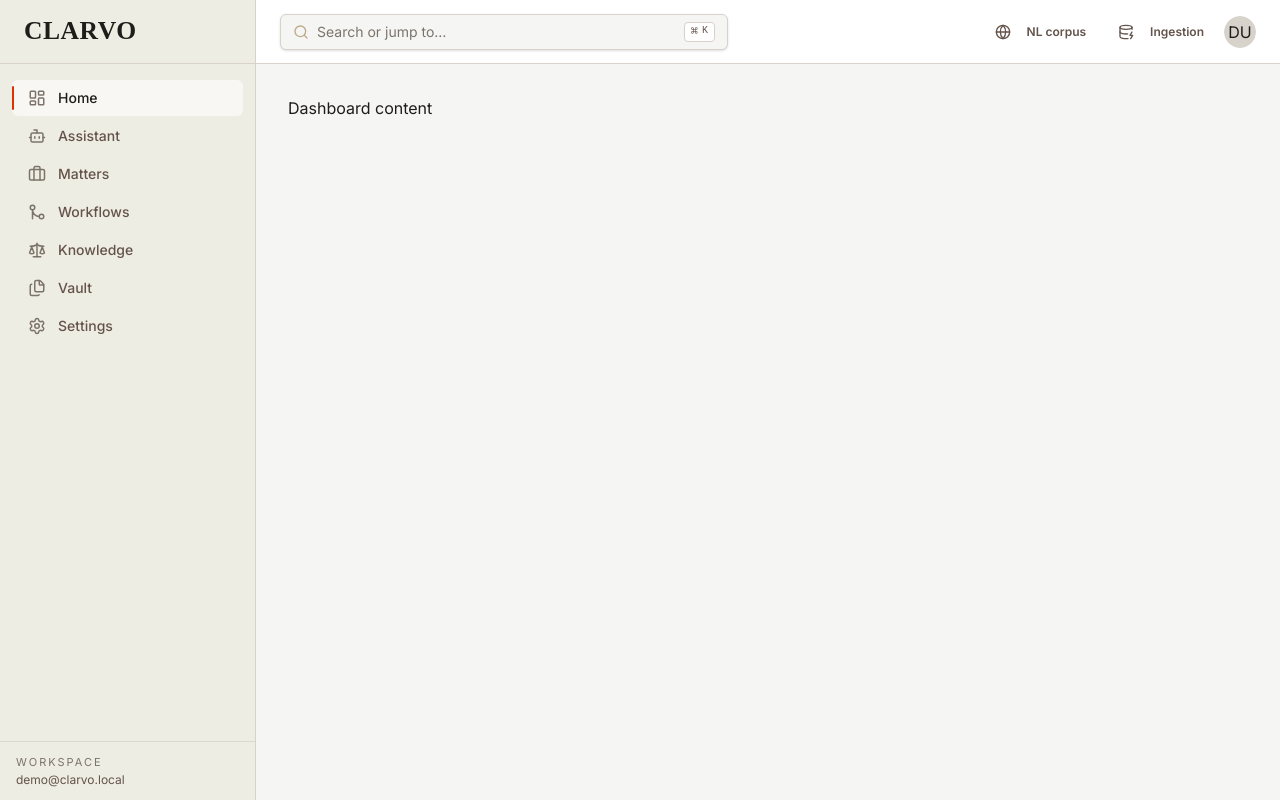
Test: dashboard navigation › keeps development-only UI sandbox out of command navigation
What coordinates should you click on to do the following:
click the text "Search or jump to…"
I would click on:
 (370, 32)
Its box is 293,22 -> 446,42.
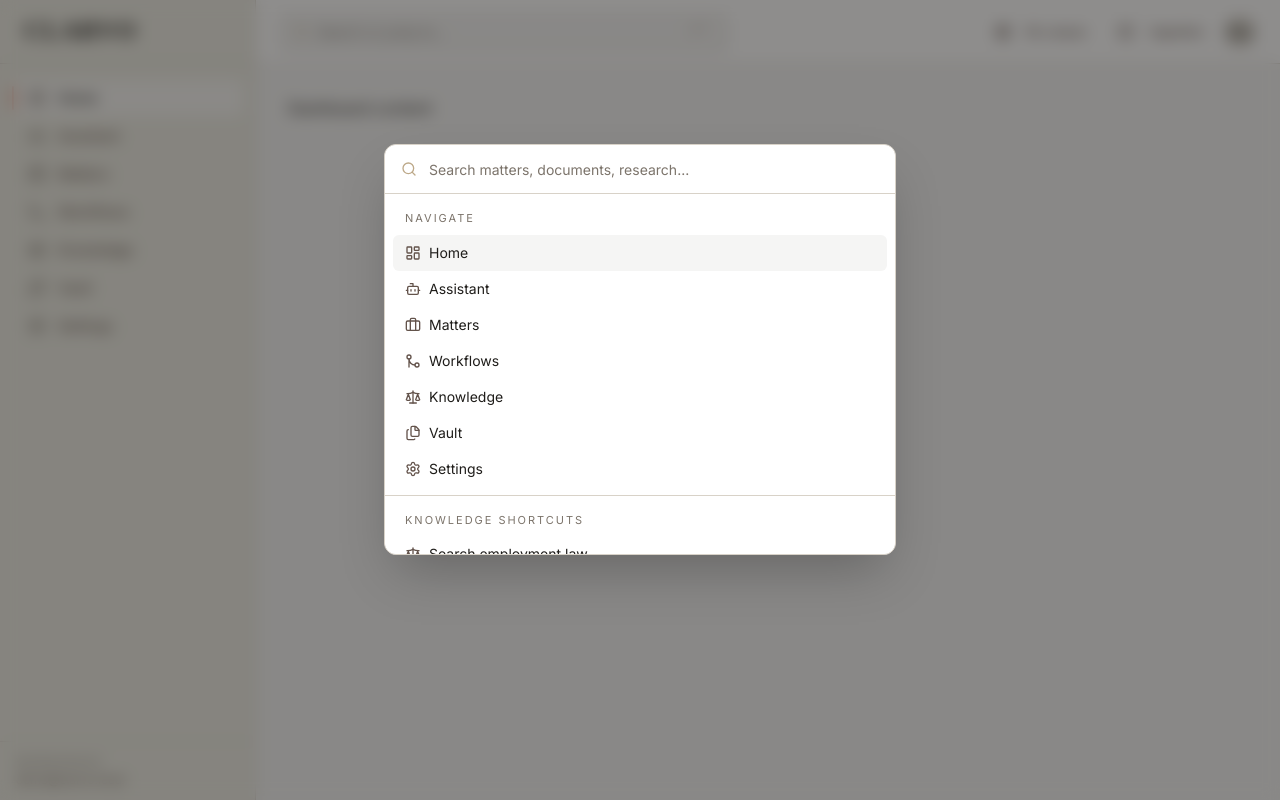
Now the text "Navigate" is shown, box 405,211 -> 475,225
